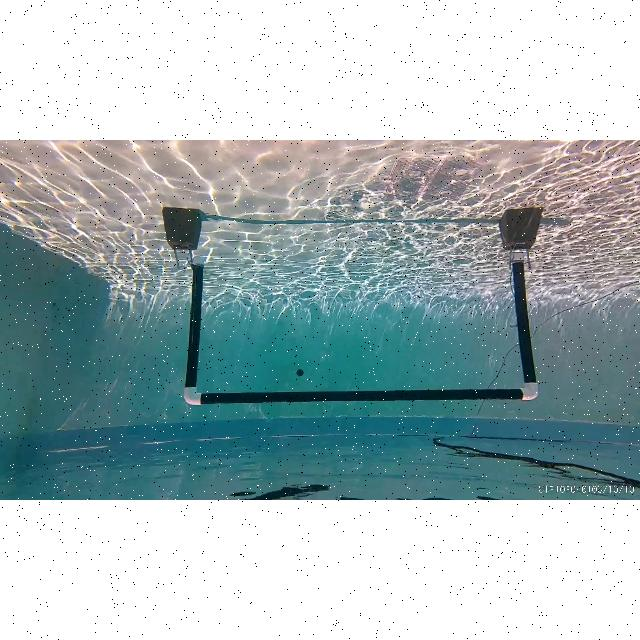prequal gate: (184, 251, 542, 405)
prequal gate leg l: (514, 253, 542, 405)
prequal gate leg r: (180, 253, 220, 407)
